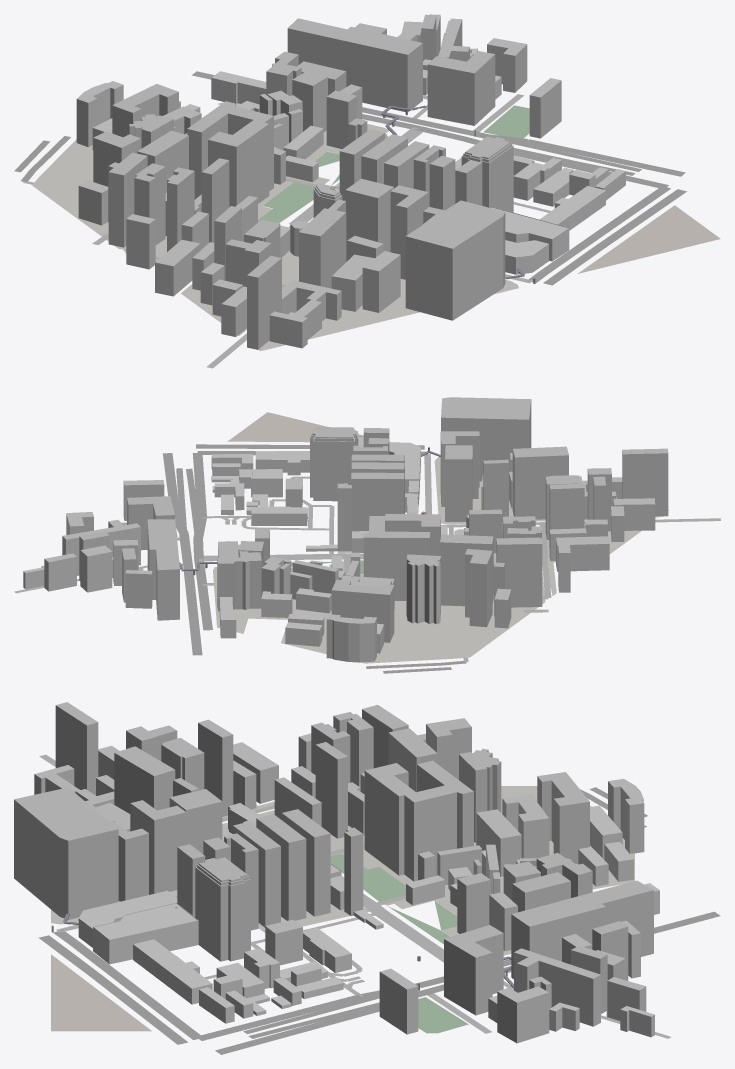
The picture shows the model from 3 angles, top to bottom: view 1: azimuth 30°, elevation 25°; view 2: azimuth 150°, elevation 25°; view 3: azimuth 270°, elevation 25°; orthographic projection. The views are drawn at different scales.
Size of the model in its own units: 608 by 77.6 by 605.
